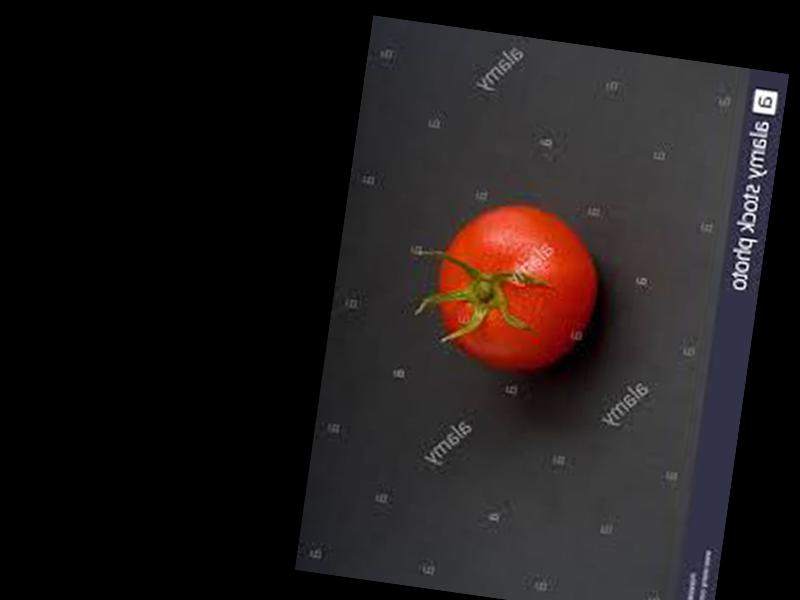Tomato: (426, 194, 601, 381)
